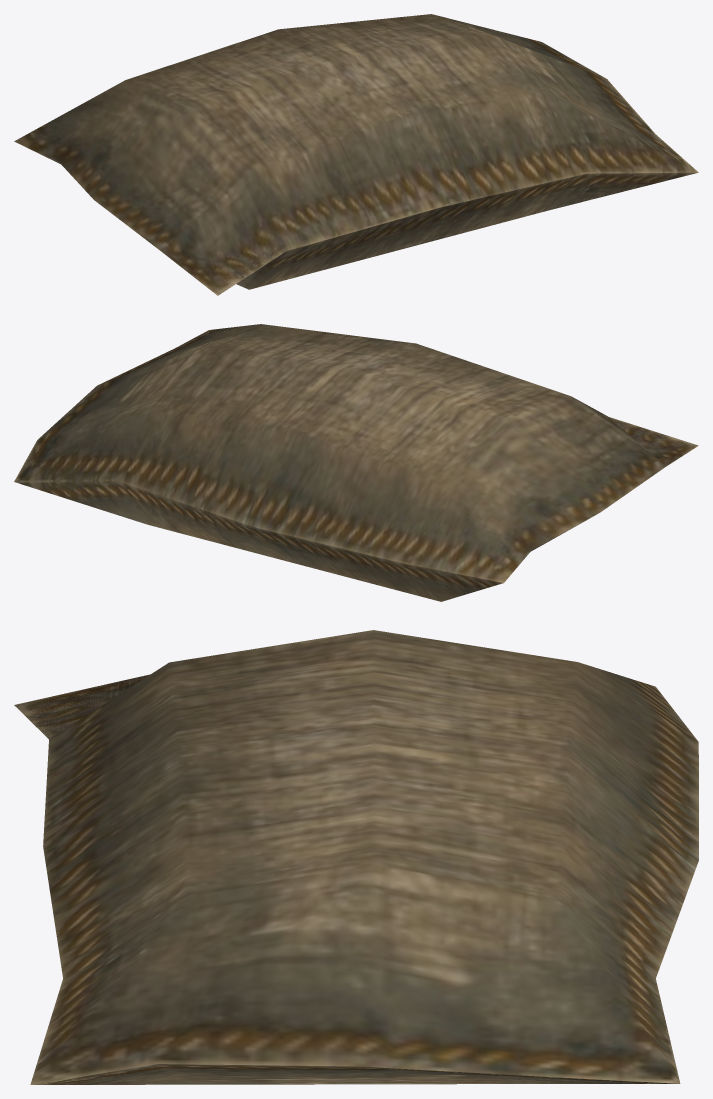
File: Sack.fbx
3 renders of one model, top to bottom at view 1: azimuth 30°, elevation 25°; view 2: azimuth 150°, elevation 25°; view 3: azimuth 270°, elevation 25°, orthographic. The views are drawn at different scales.
Parts seen in each view (by area): view 1: SackMesh2, SackMesh; view 2: SackMesh2, SackMesh; view 3: SackMesh2, SackMesh.
Boxes of the visible parts, bbox=[...] form: SackMesh2: bbox=[14, 14, 698, 295]; SackMesh: bbox=[16, 142, 697, 291]; SackMesh2: bbox=[14, 324, 698, 582]; SackMesh: bbox=[15, 417, 691, 601]; SackMesh2: bbox=[14, 630, 698, 1084]; SackMesh: bbox=[21, 675, 679, 1084].
Size of the model in its own units: 562 by 155 by 408.
Materials: 1 (1 with a texture image).
